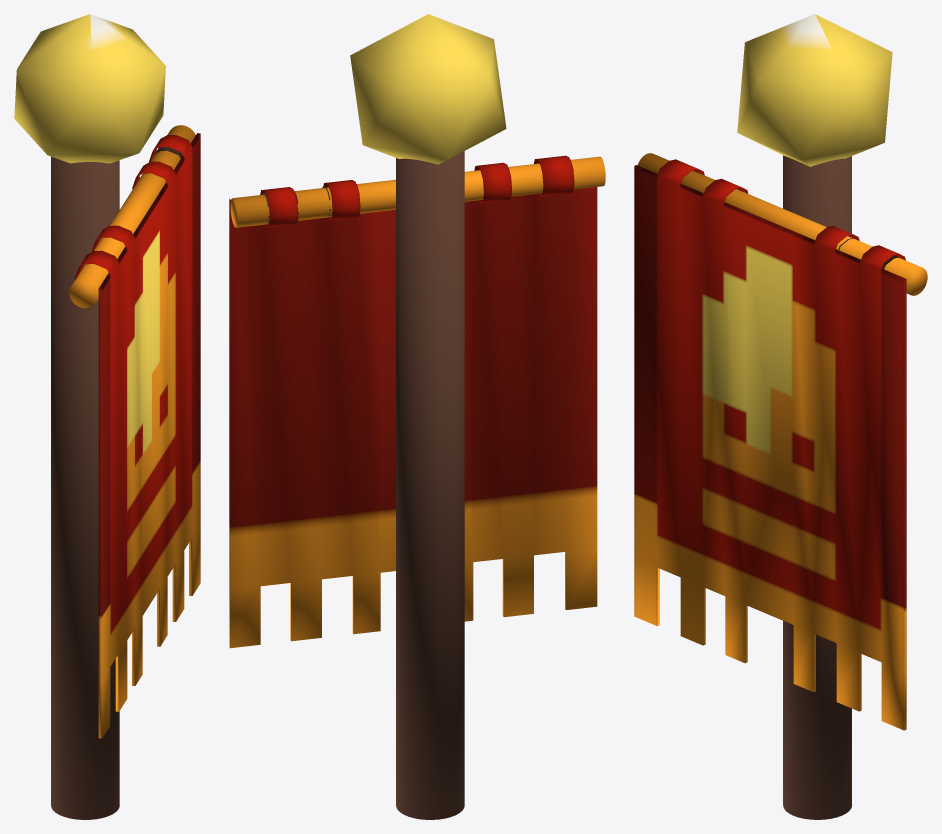
The model's file is BattleStandard.fbx.
3 renders of one model, left to right at view 1: azimuth 30°, elevation 25°; view 2: azimuth 150°, elevation 25°; view 3: azimuth 270°, elevation 25°, orthographic.
Visible parts, largest first — view 1: Cylinder; view 2: Cylinder; view 3: Cylinder.
Part boxes in pixels (box(x1,y1,x2,y2)): Cylinder: box(14, 14, 200, 819); Cylinder: box(229, 14, 605, 819); Cylinder: box(634, 14, 927, 819).
Bounding box in the file's own units: 168 × 500 × 168.
1 material, 1 textured.
